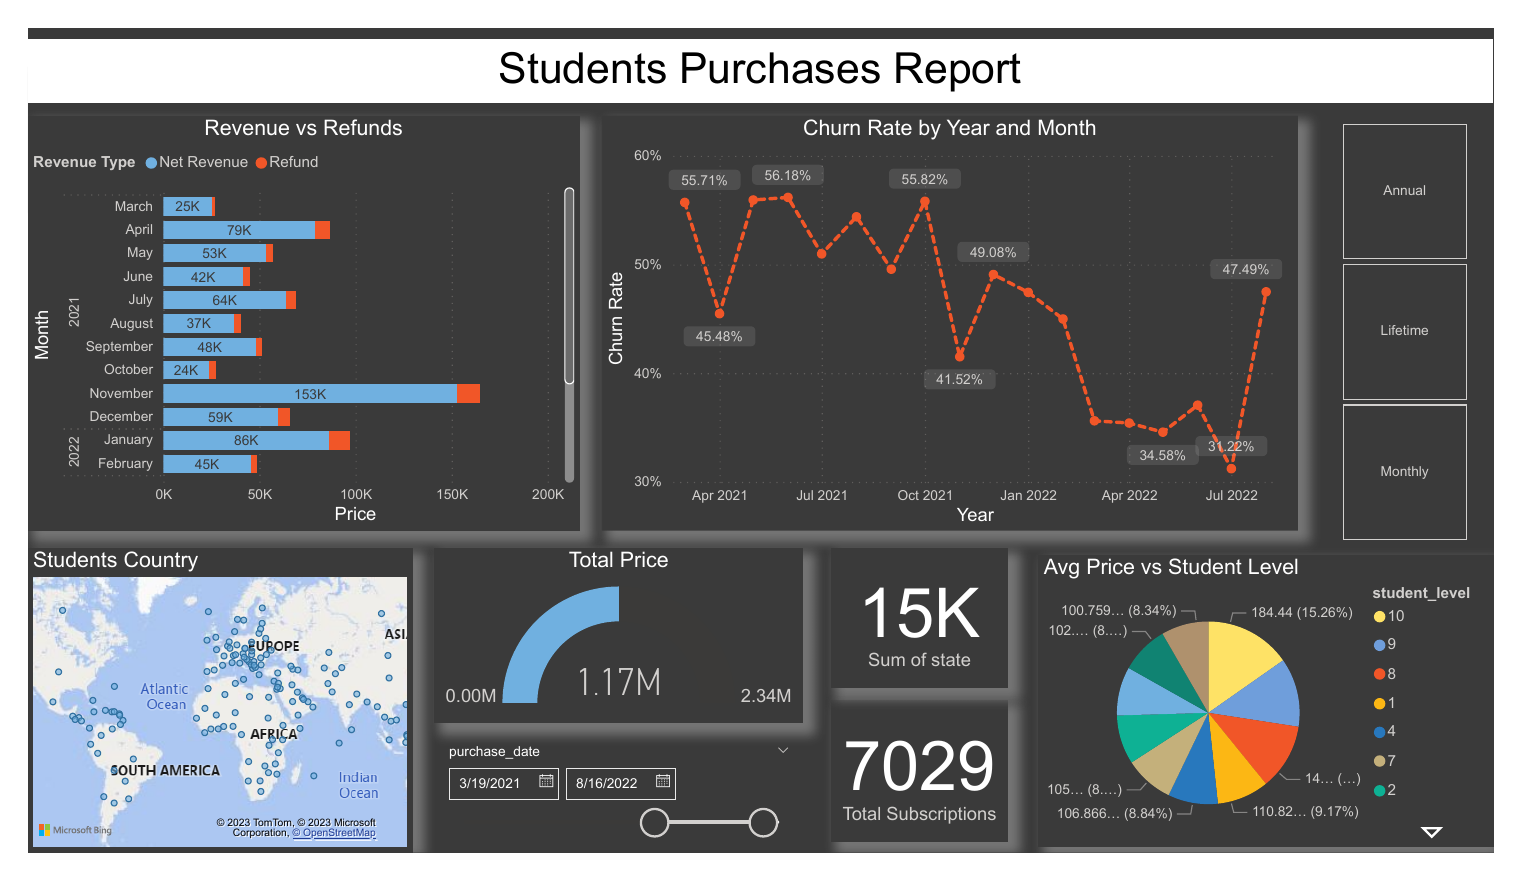

Layout of this report page (visuals, bound fields, positions):
{"tool":"powerbi","page":{"name":"Page 1","canvas":[1280,720],"ordinal":0},"visuals":[{"type":"barChart","title":"Revenue vs Refunds","fields":{"Category":["purchases.purchase_date.Variation.Date Hierarchy.Year","purchases.purchase_date.Variation.Date Hierarchy.Month"],"Y":["Sum(purchases.price)"],"Series":["purchases.Revenue Type"]},"box":[0,76.8,481.6,362.3],"z":0},{"type":"slicer","fields":{"Values":["purchases.purchase_date"]},"box":[355.4,620.2,321.1,100.2],"z":1000},{"type":"slicer","fields":{"Values":["subscriptions.Subscription Type Text"]},"box":[1122.5,76.8,157.8,377.4],"z":2000},{"type":"lineChart","fields":{"Category":["purchases.purchase_date.Variation.Date Hierarchy.Year","purchases.purchase_date.Variation.Date Hierarchy.Month"],"Y":["purchases.Churn Rate"]},"box":[500.9,76.8,607.9,362.3],"z":3000},{"type":"map","fields":{"Category":["students.student_country"]},"box":[0,454.2,336.2,266.2],"z":4000},{"type":"textbox","box":[0,9.6,1278.9,56.3],"z":5000},{"type":"gauge","fields":{"Y":["Sum(purchases.price)"]},"box":[355.4,454.2,321.1,152.3],"z":6000},{"type":"card","fields":{"Values":["purchases.Total Subscriptions"]},"box":[701.2,587.3,155.1,123.5],"z":7000},{"type":"card","fields":{"Values":["Sum(subscriptions.state)"]},"box":[701.2,454.2,155.1,122.1],"z":8000},{"type":"pieChart","title":"Avg Price vs Student Level","fields":{"Category":["students.student_level"],"Y":["Avg(purchases.price)"]},"box":[882.3,459.7,397.9,255.2],"z":9000}]}

Visuals, with their boxes in screenshot pixels (x1, y1, x2, y2), scaled from the page's 1280x720 canvas onto the 1522x880 screenshot:
"Revenue vs Refunds" barChart: 0:94:573:537
slicer - purchases.purchase_date: 423:758:804:879
slicer - subscriptions.Subscription Type Text: 1335:94:1521:555
lineChart - purchases.purchase_date.Variation.Date Hierarchy.Year x purchases.purchase_date.Variation.Date Hierarchy.Month: 596:94:1318:537
map - students.student_country: 0:555:400:879
textbox: 0:12:1521:81
gauge - Sum(purchases.price): 423:555:804:741
card - purchases.Total Subscriptions: 834:718:1018:869
card - Sum(subscriptions.state): 834:555:1018:704
"Avg Price vs Student Level" pieChart: 1049:562:1521:874
